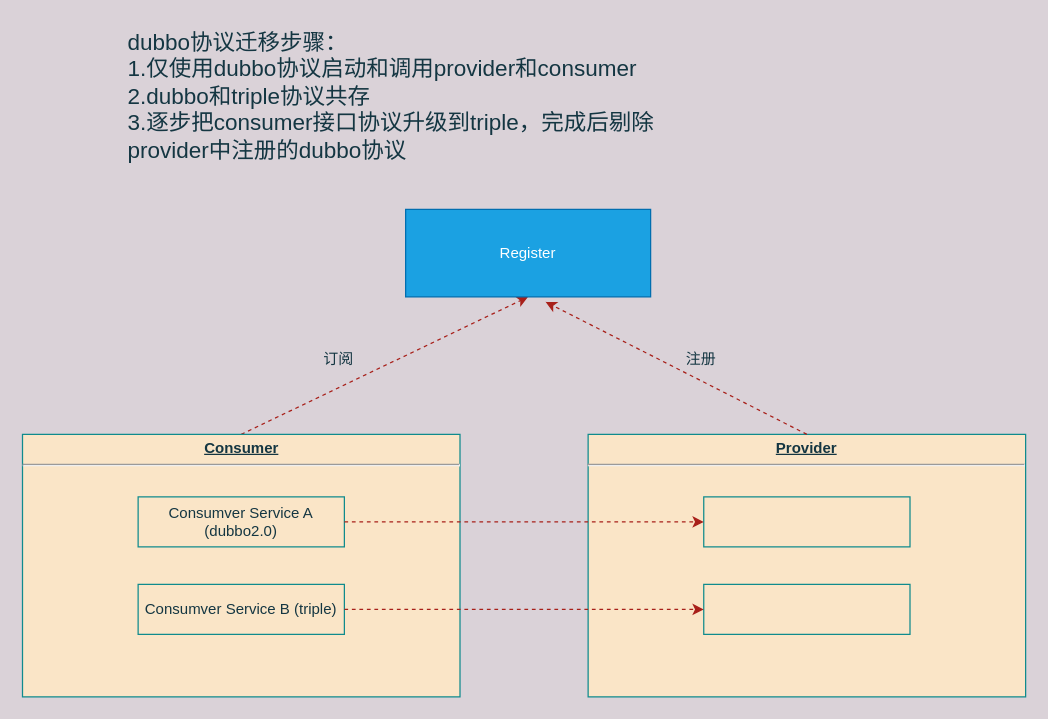
This 1048x719 diagram has some shape labels left out. The centre of each missing label's shape, as x and y in pixels:
"Provider (dubbo2.0)" goes at [806,521].
"Provider (triple)" goes at [806,608].
